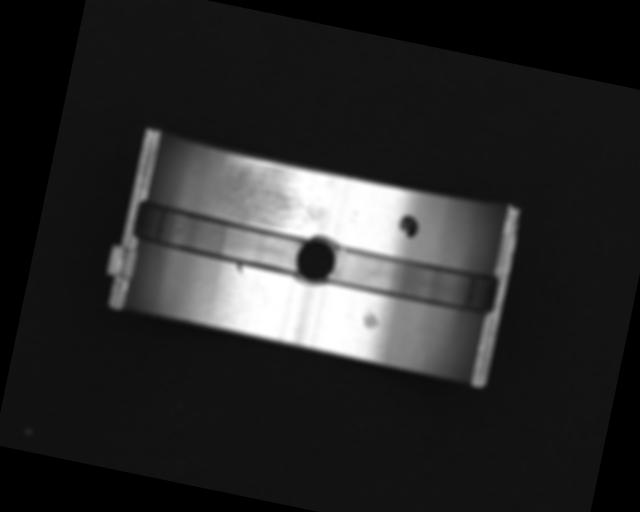blot: (395, 211, 421, 239)
bruise: (359, 308, 382, 332), (235, 262, 244, 275)
gap: (129, 198, 309, 279), (325, 241, 500, 317)
hole: (291, 231, 342, 289)
scratch: (216, 154, 336, 239)
